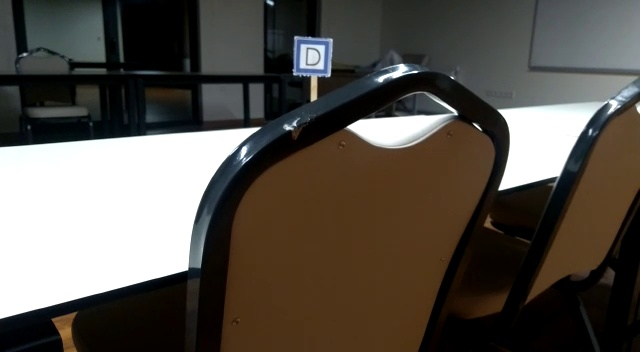durak: (293, 37, 333, 75)
